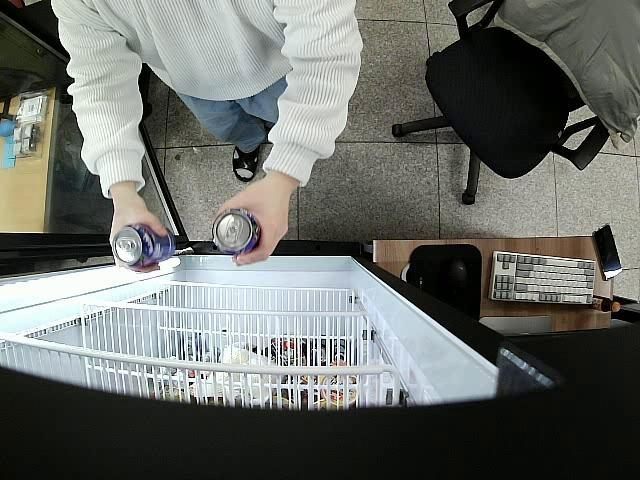14_welchsGrape: (111, 222, 176, 270), (211, 208, 260, 256)
